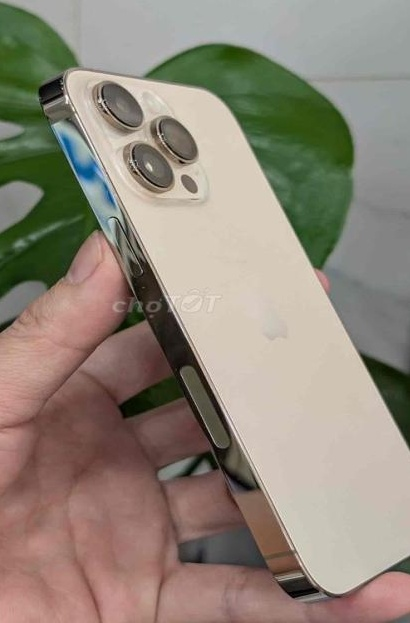scratch: (152, 129, 171, 147), (127, 159, 143, 175), (100, 95, 112, 112)
